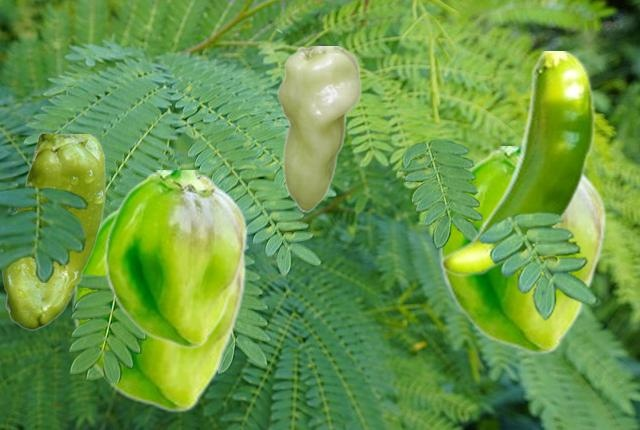green_chili: (72, 203, 246, 412), (439, 51, 595, 276), (439, 146, 606, 354), (104, 170, 247, 348), (1, 134, 104, 329), (276, 46, 360, 211)
